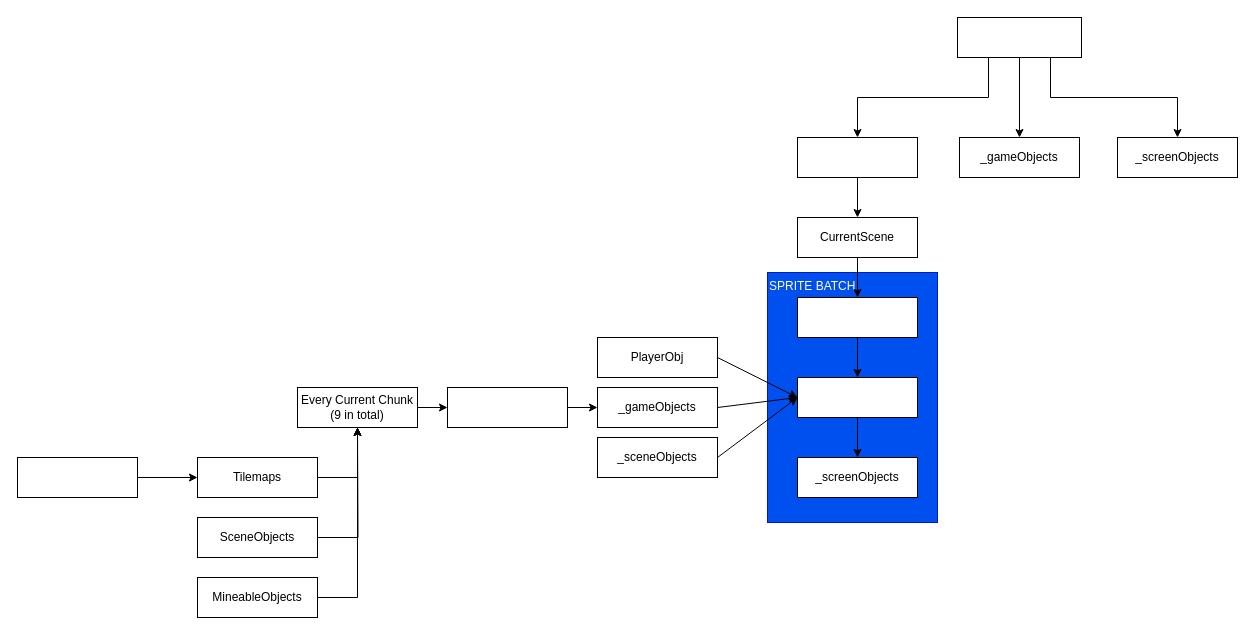
This 1255x635 diagram has some shape labels left out. Each missing label, with the centre of its shape:
"BaseScene" belongs at point (857, 317).
"Game1" belongs at point (1019, 37).
"IDrawables sort by Z-Index" belongs at point (857, 397).
"SceneManager" belongs at point (857, 157).
"Tiles" belongs at point (77, 477).
"WorldChunkManager" belongs at point (507, 407).
